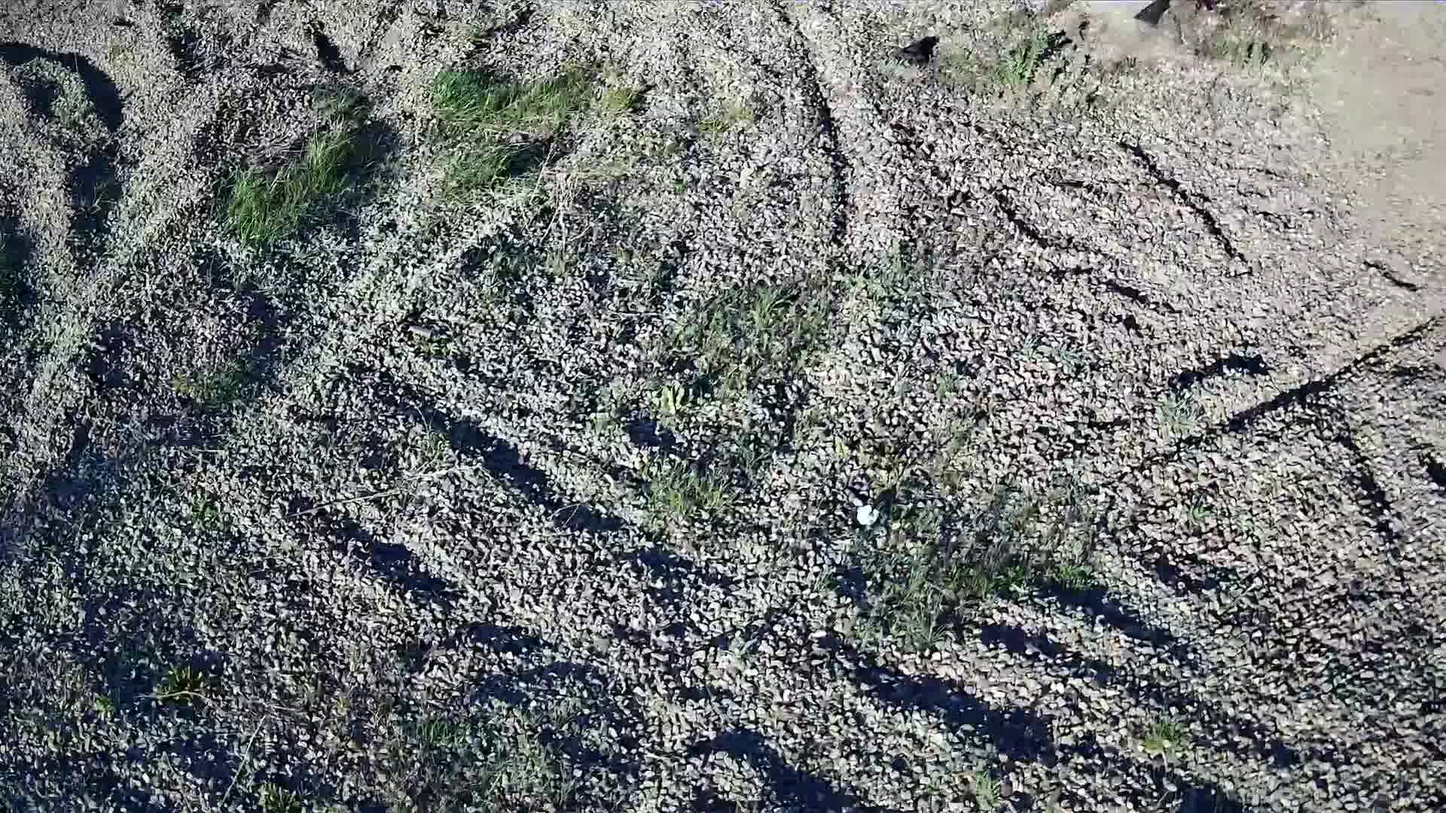Target: (856, 505, 881, 525)
